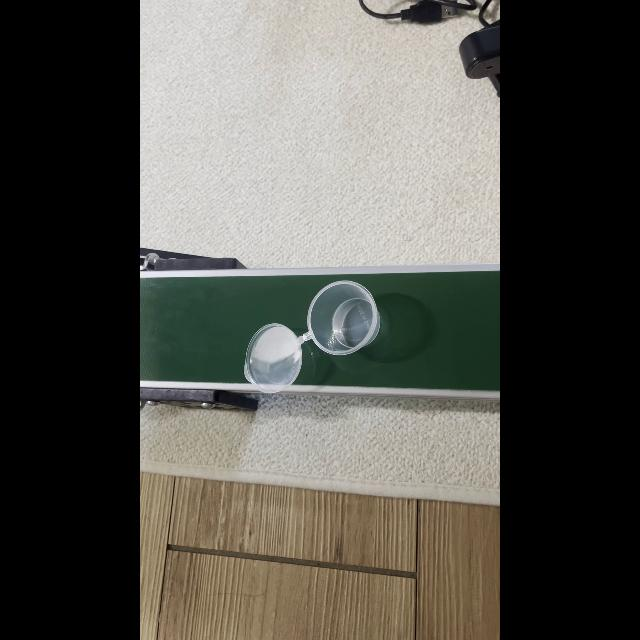clean: (304, 282, 374, 348), (250, 329, 298, 381)
